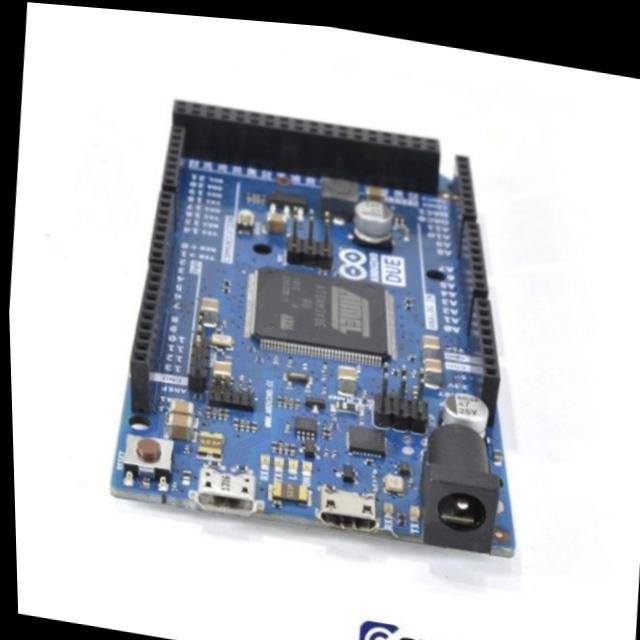Arduino-Due: (113, 102, 516, 556)
